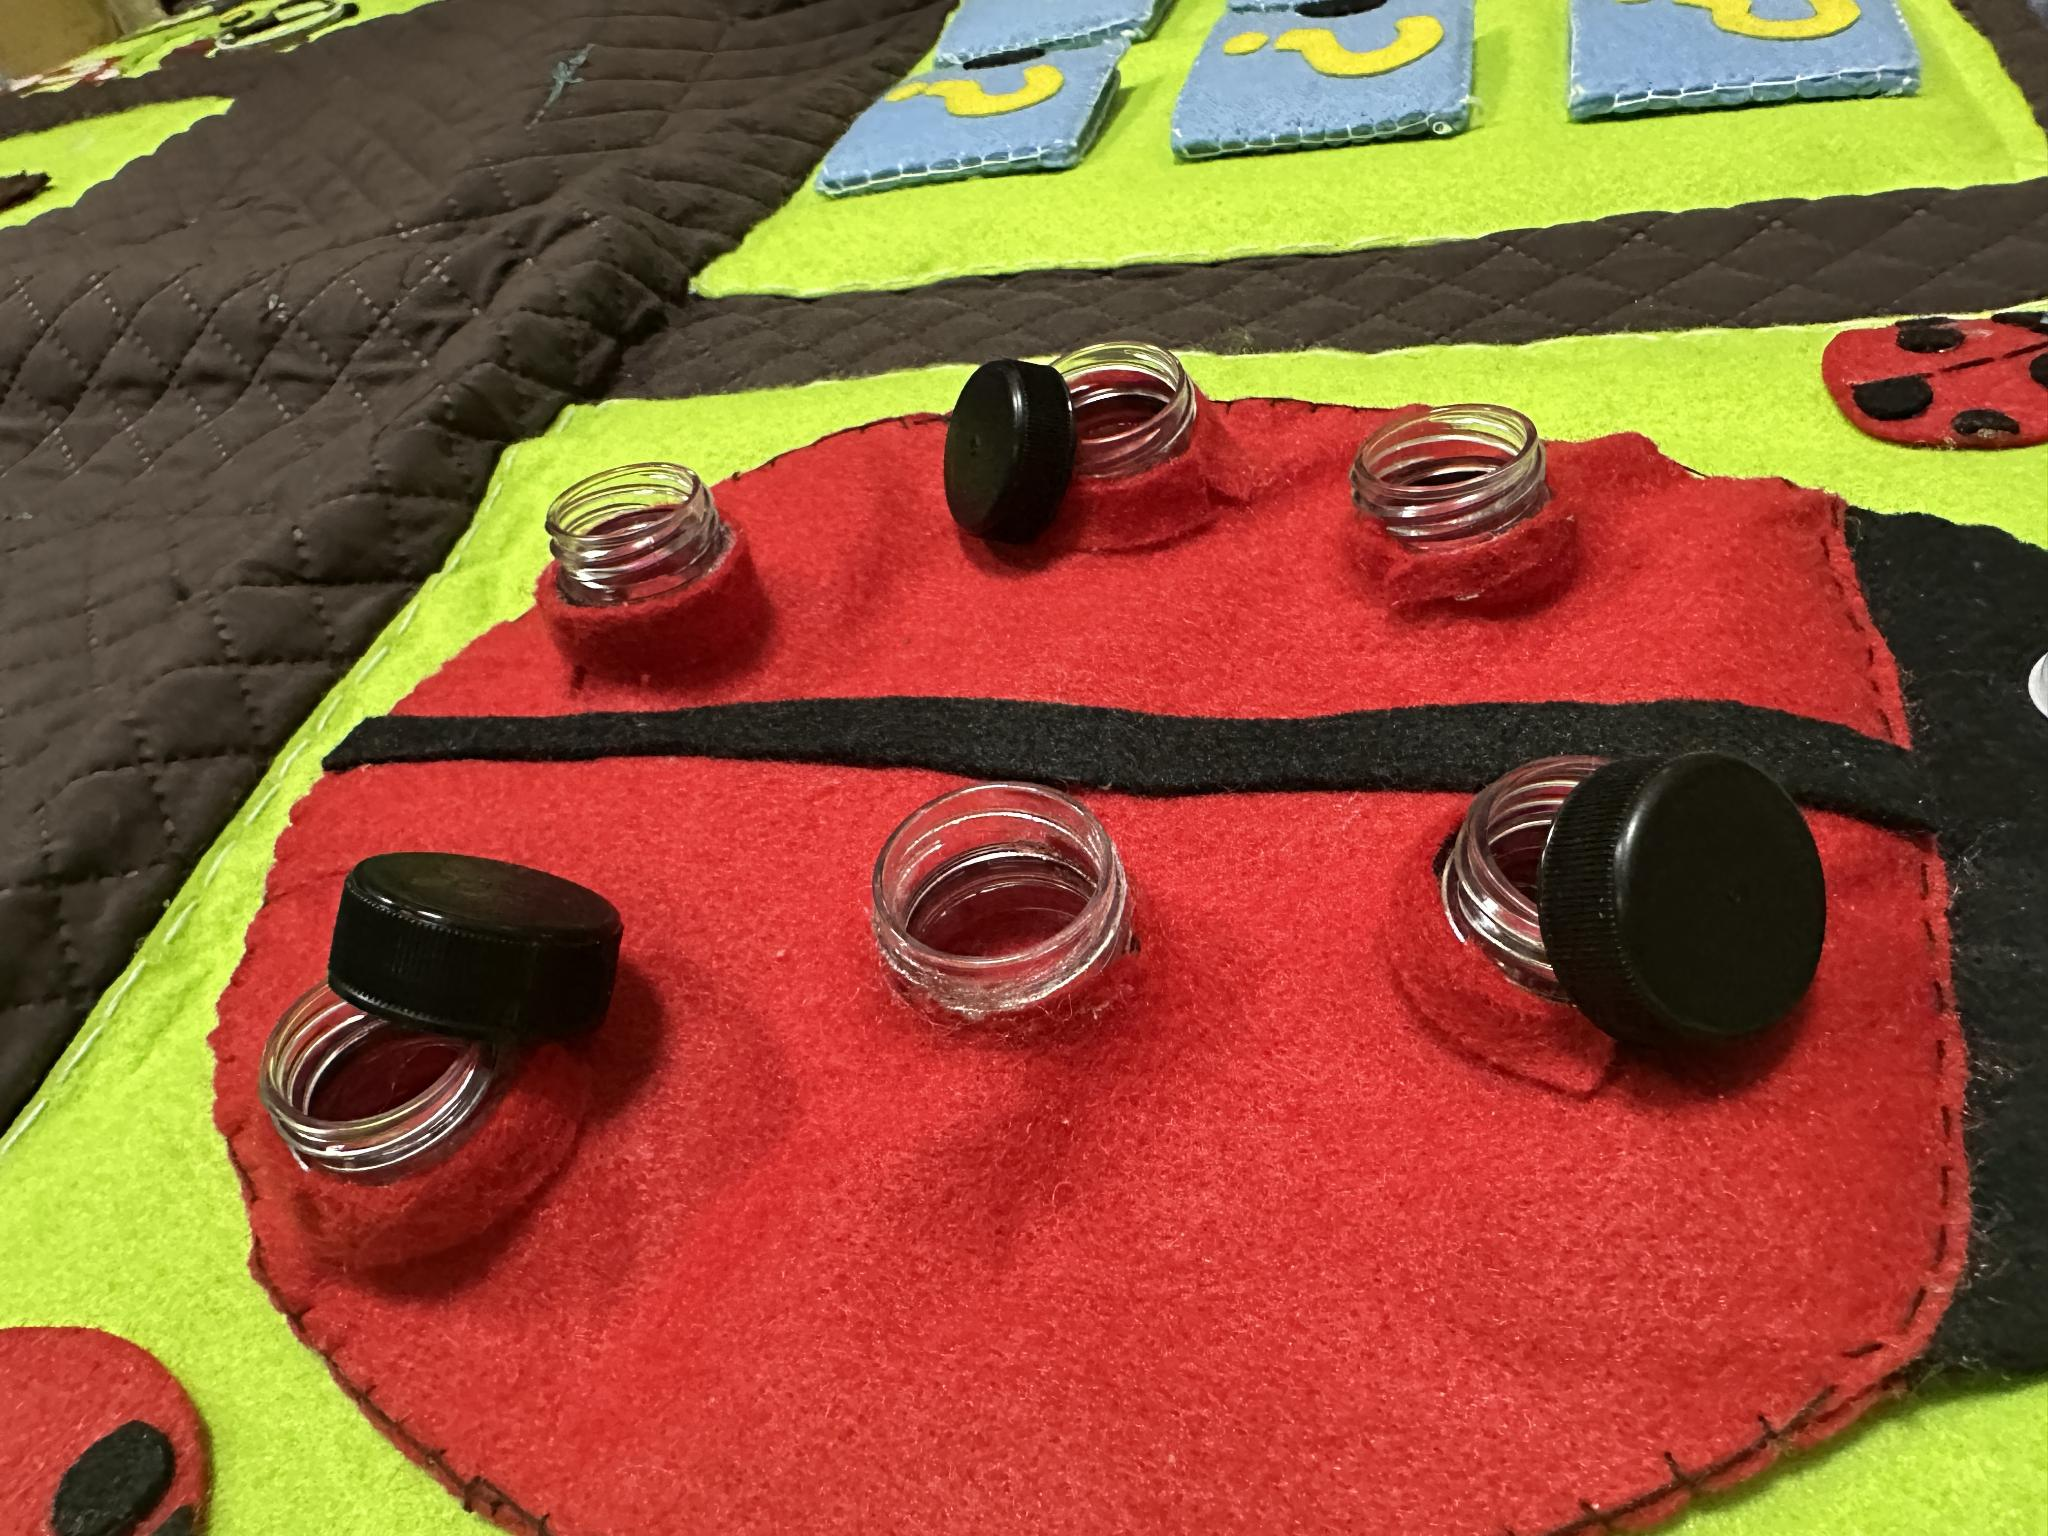cap_ng: (1377, 729, 1859, 1121), (248, 852, 645, 1278), (943, 326, 1253, 560)
